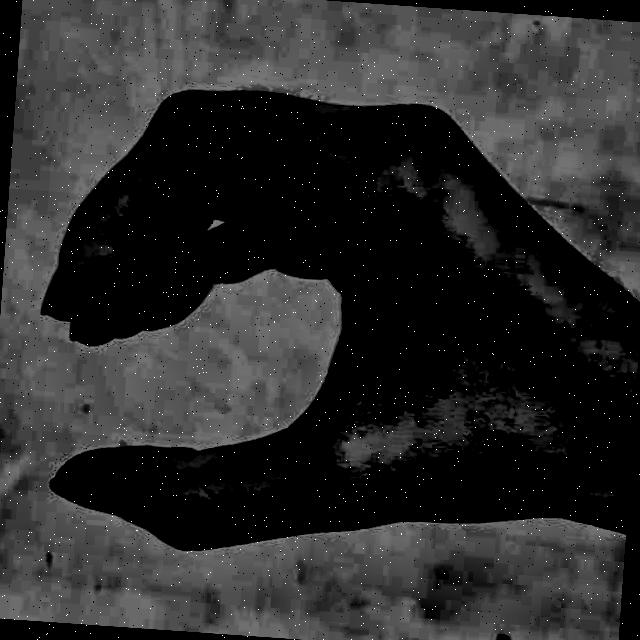Ka: (4, 19, 615, 631)
